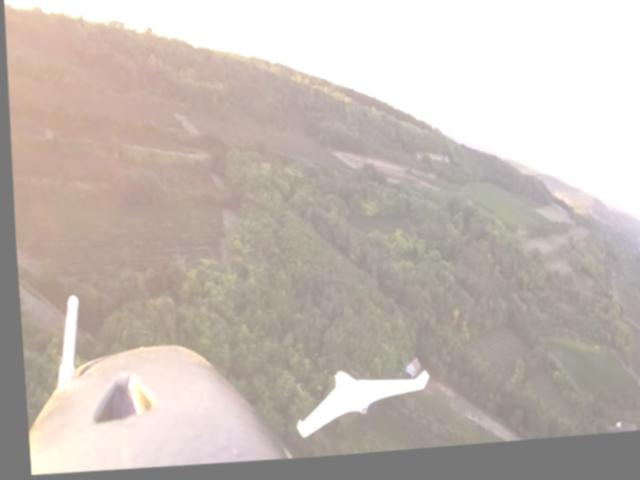plane: (289, 367, 426, 448)
